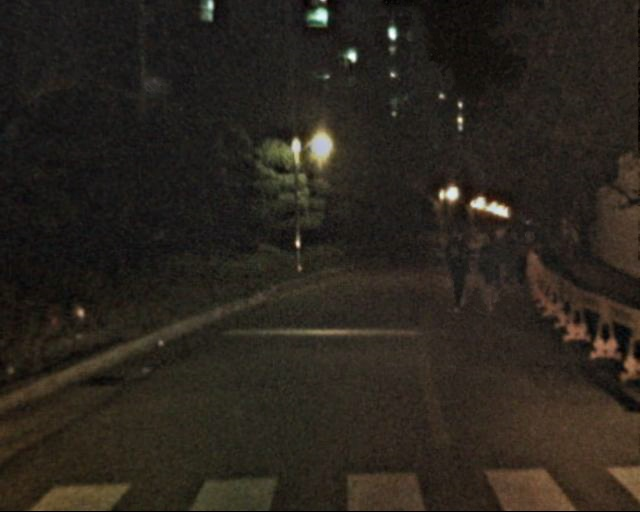person: (440, 225, 478, 317), (473, 233, 508, 319), (498, 232, 520, 285), (513, 224, 535, 277)
